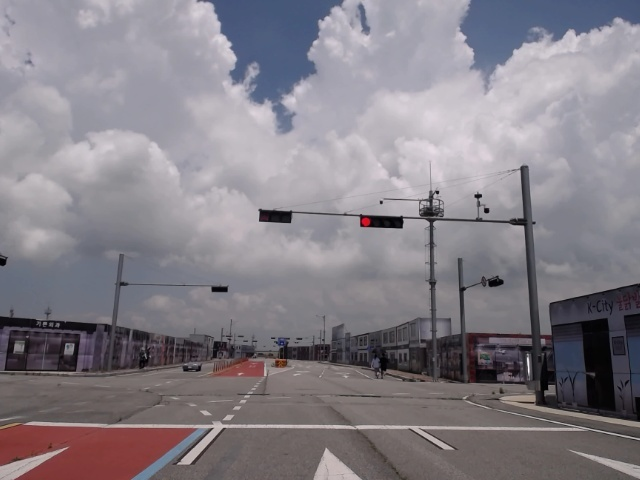red_4: (360, 216, 403, 228)
